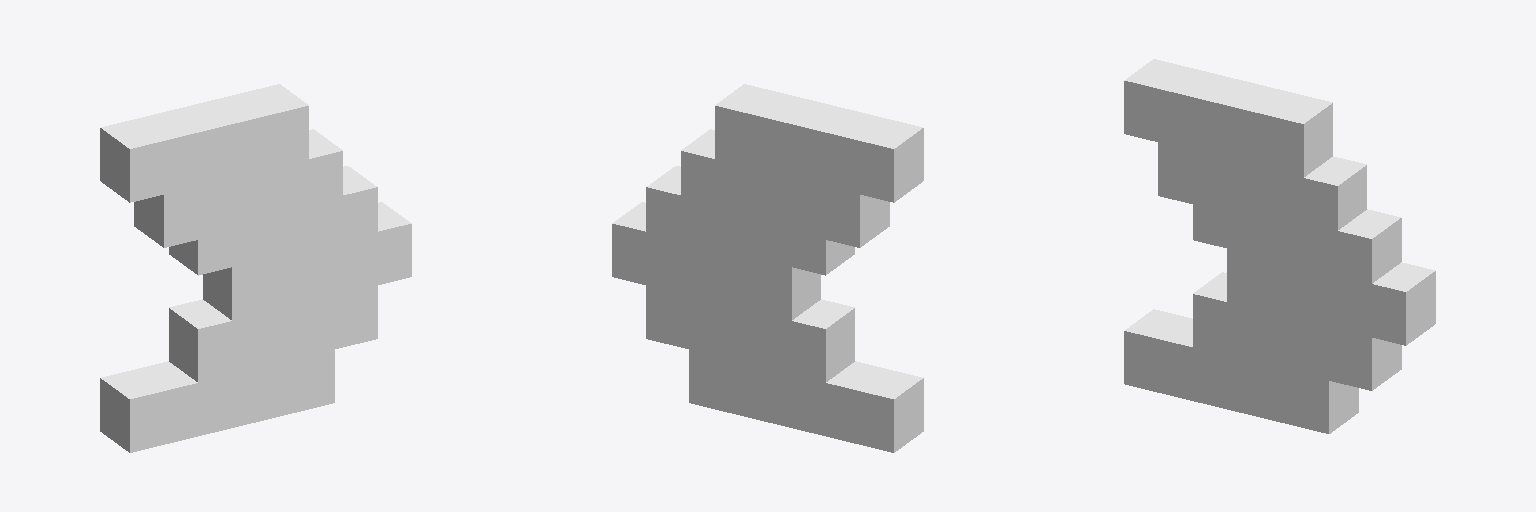
File: collectable.obj
The picture shows the model from 3 angles: view 1: azimuth 30°, elevation 25°; view 2: azimuth 150°, elevation 25°; view 3: azimuth 330°, elevation 25°; orthographic projection.
Visible parts, largest first — view 1: object 1; view 2: object 1; view 3: object 1.
Part boxes in pixels (bbox=[...]): object 1: bbox=[100, 84, 411, 452]; object 1: bbox=[612, 84, 923, 452]; object 1: bbox=[1124, 59, 1435, 433].
Bounding box in the file's own units: 3.3 × 3.4 × 0.6.